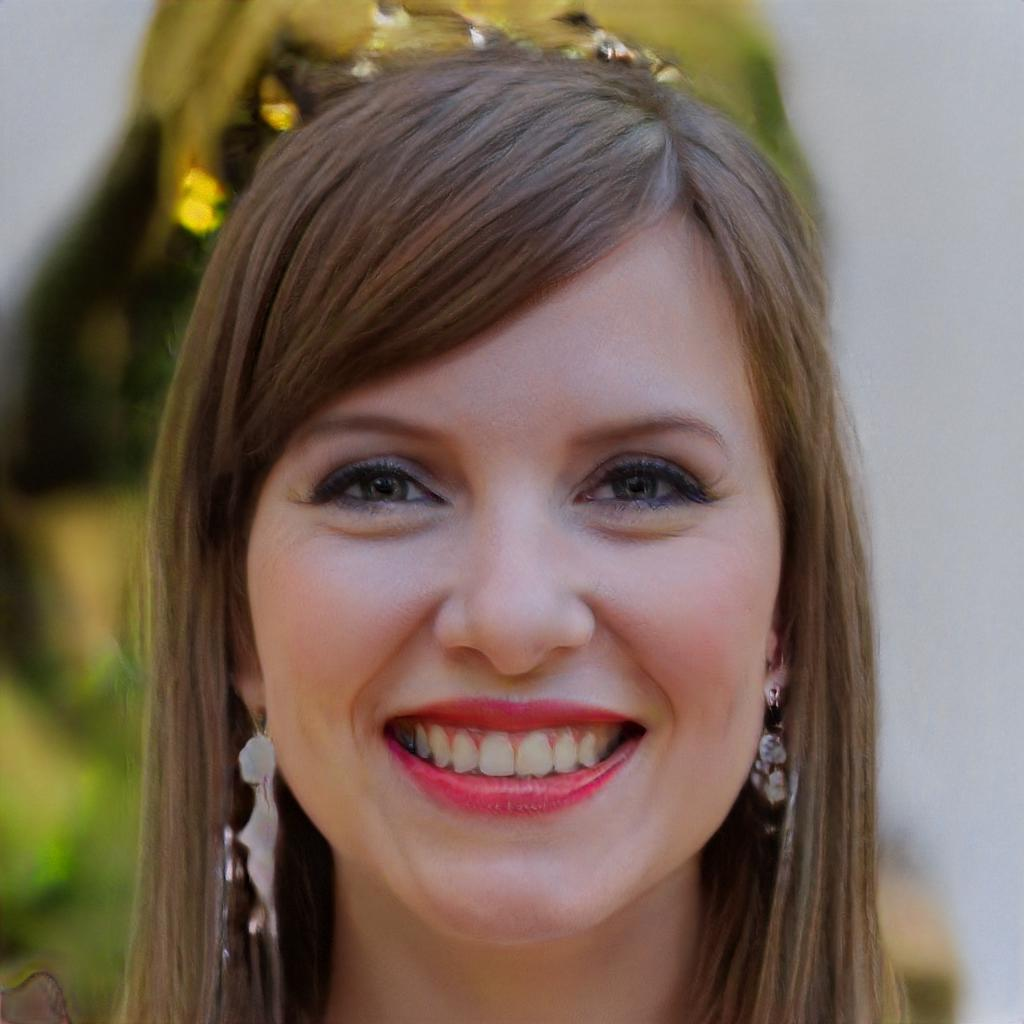face: (247, 223, 781, 943)
